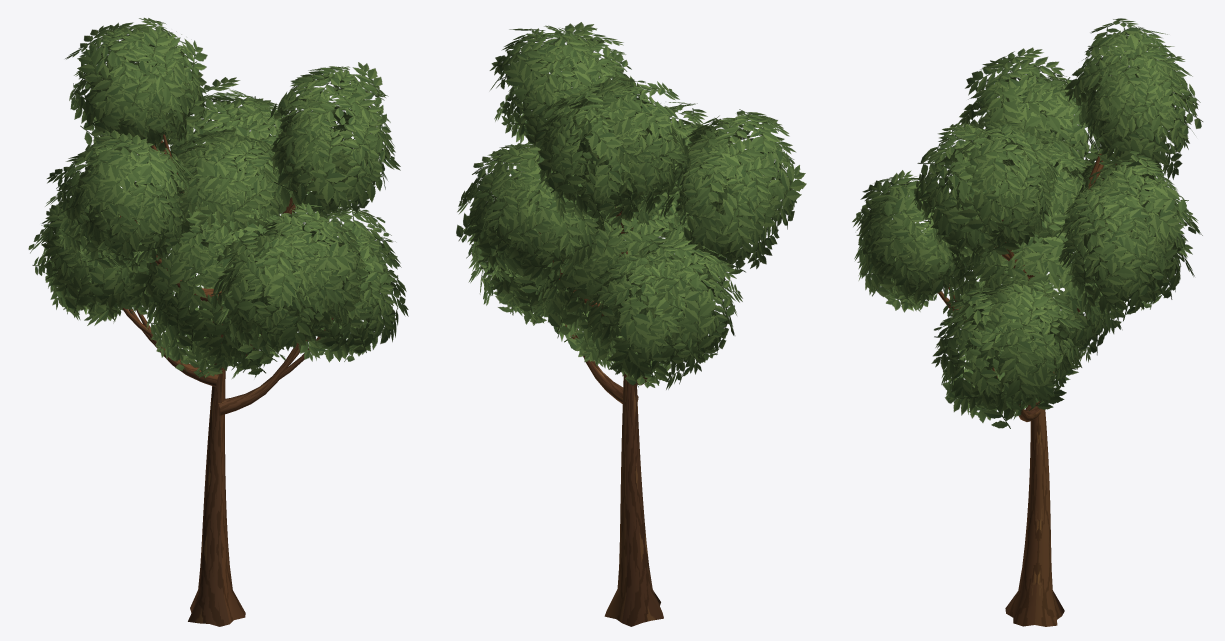
The model's file is hornbeam_tall.glb.
The picture shows the model from 3 angles, left to right: view 1: azimuth 30°, elevation 25°; view 2: azimuth 150°, elevation 25°; view 3: azimuth 270°, elevation 25°; orthographic projection.
Visible parts, largest first — view 1: hornbeam_tall; view 2: hornbeam_tall; view 3: hornbeam_tall.
Part boxes in pixels (x1,y1,x2,y2): hornbeam_tall: [28, 17, 408, 626]; hornbeam_tall: [456, 22, 806, 626]; hornbeam_tall: [852, 18, 1202, 626].
Bounding box in the file's own units: 10.71 × 17.24 × 9.91.
2 materials, 2 textured.
